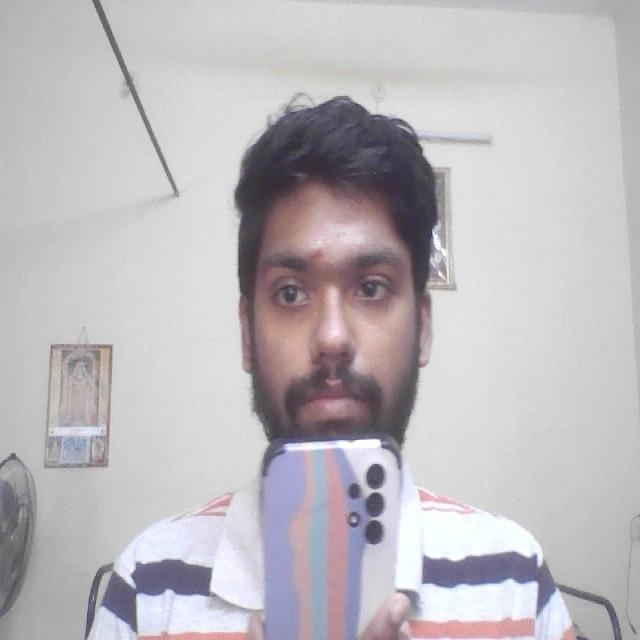Mobile: (251, 434, 412, 640)
